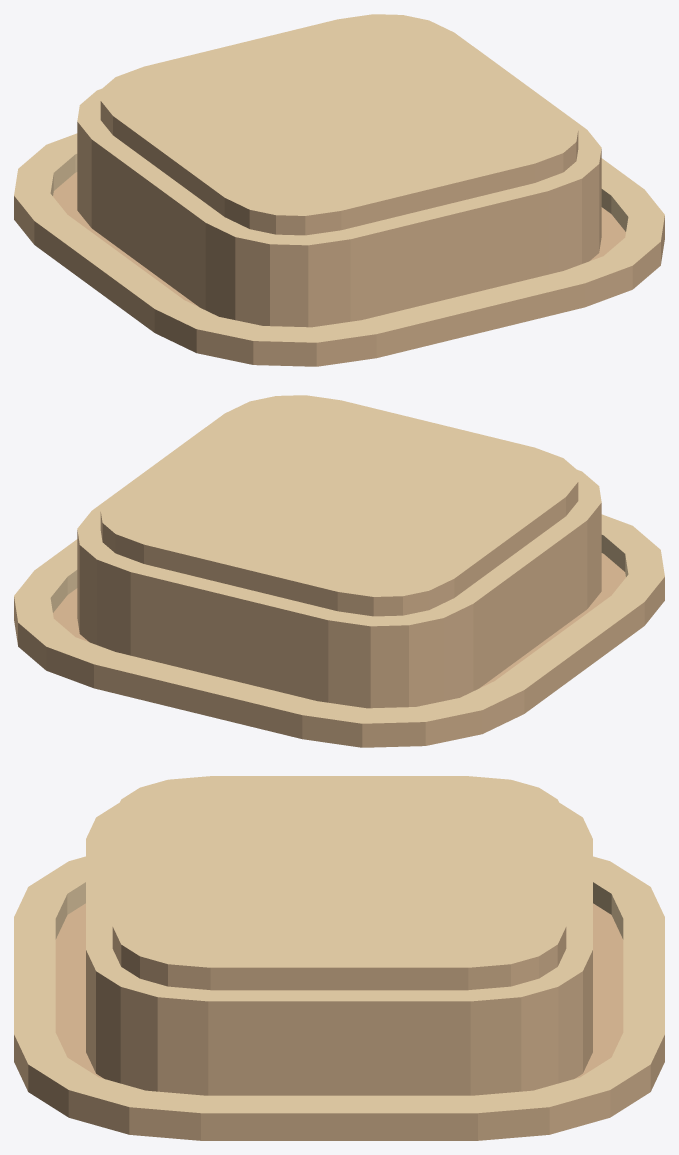
File: makineyeri_kup 1.fbx
The picture shows the model from 3 angles, top to bottom: view 1: azimuth 30°, elevation 25°; view 2: azimuth 150°, elevation 25°; view 3: azimuth 270°, elevation 25°; orthographic projection. The views are drawn at different scales.
Parts seen in each view (by area): view 1: Cube.056; view 2: Cube.056; view 3: Cube.056.
Boxes of the visible parts, x1,y1,x2,y2 form: Cube.056: (14, 14, 664, 366); Cube.056: (14, 395, 664, 747); Cube.056: (14, 776, 664, 1140).
Bounding box in the file's own units: 160 × 35.69 × 160.
